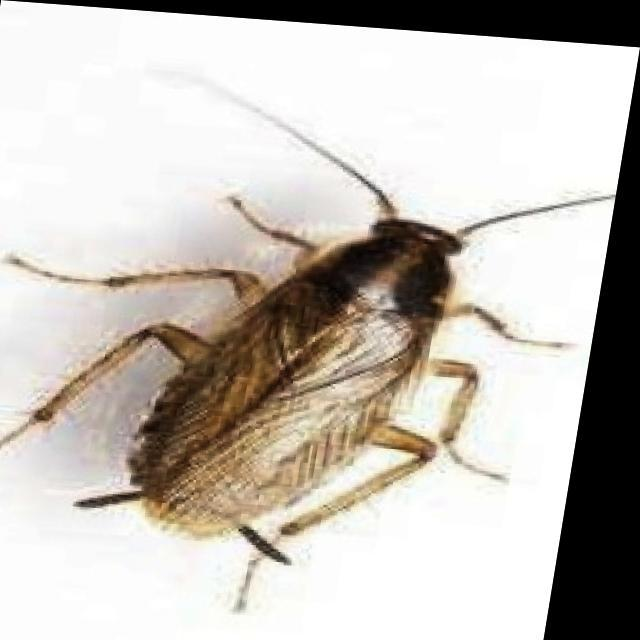cockroach: (123, 214, 461, 542)
